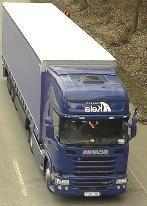Truck: (2, 3, 138, 199)
